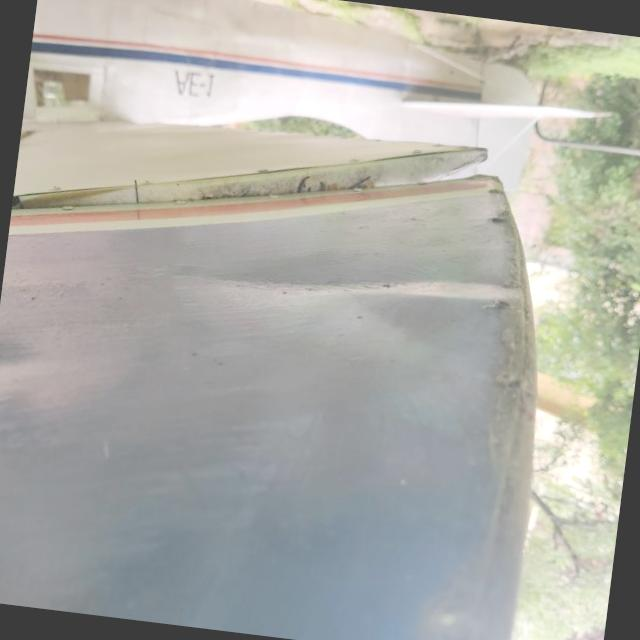dent: (173, 203, 550, 385)
